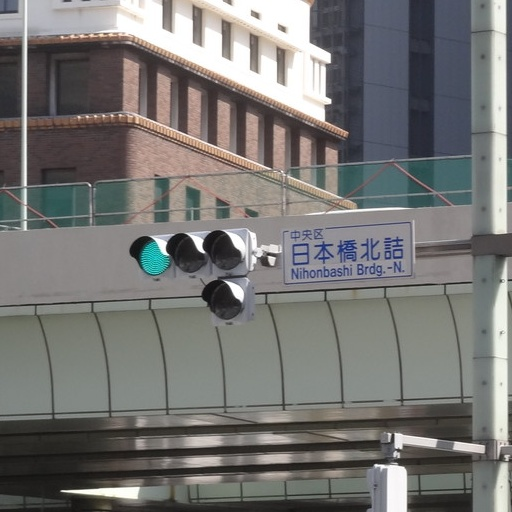Traffic_Signal_Blue: (129, 229, 262, 277)
